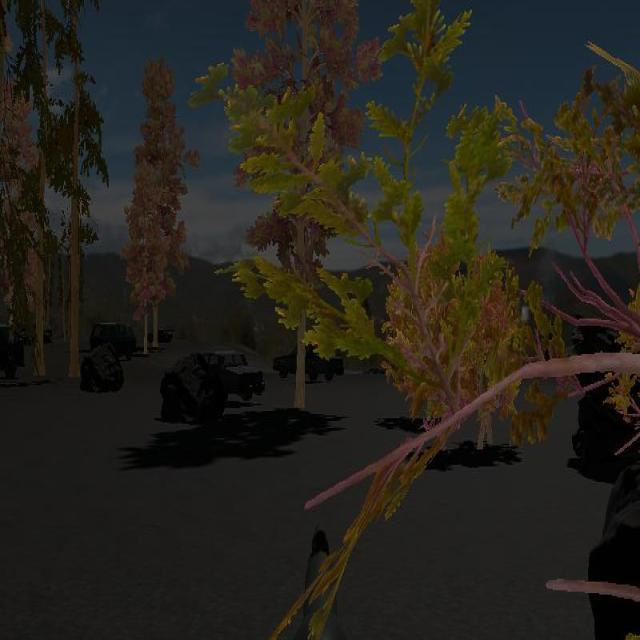car: (192, 348, 265, 402), (273, 344, 344, 383)
